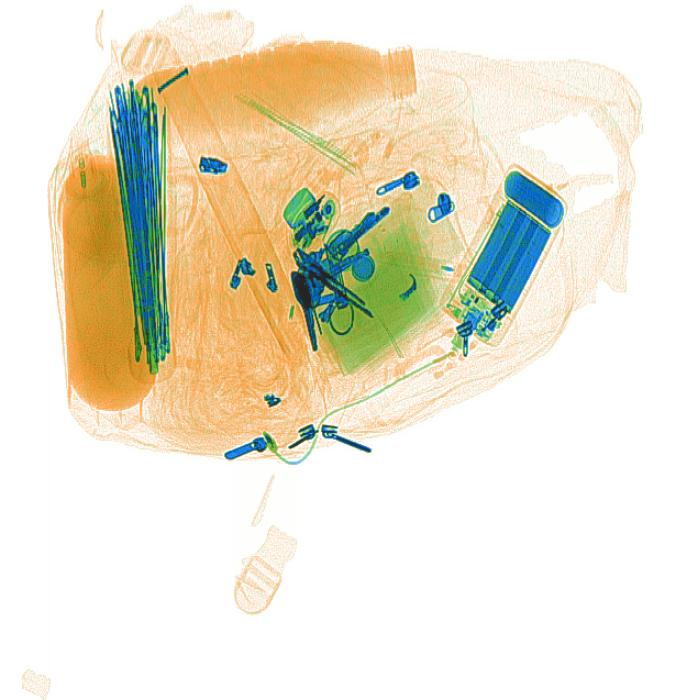battery: (437, 190, 552, 350), (502, 168, 562, 227)
plasticBottleWithaNozzle: (53, 126, 109, 290)
